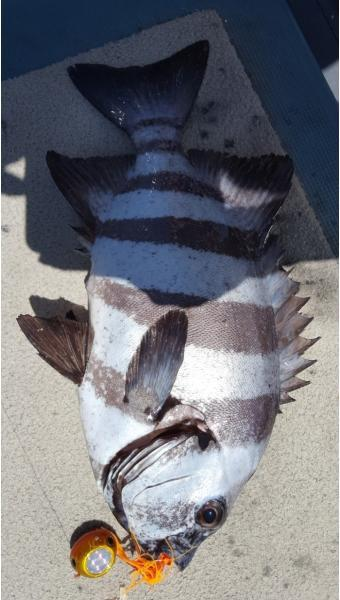fish: (14, 37, 325, 577)
